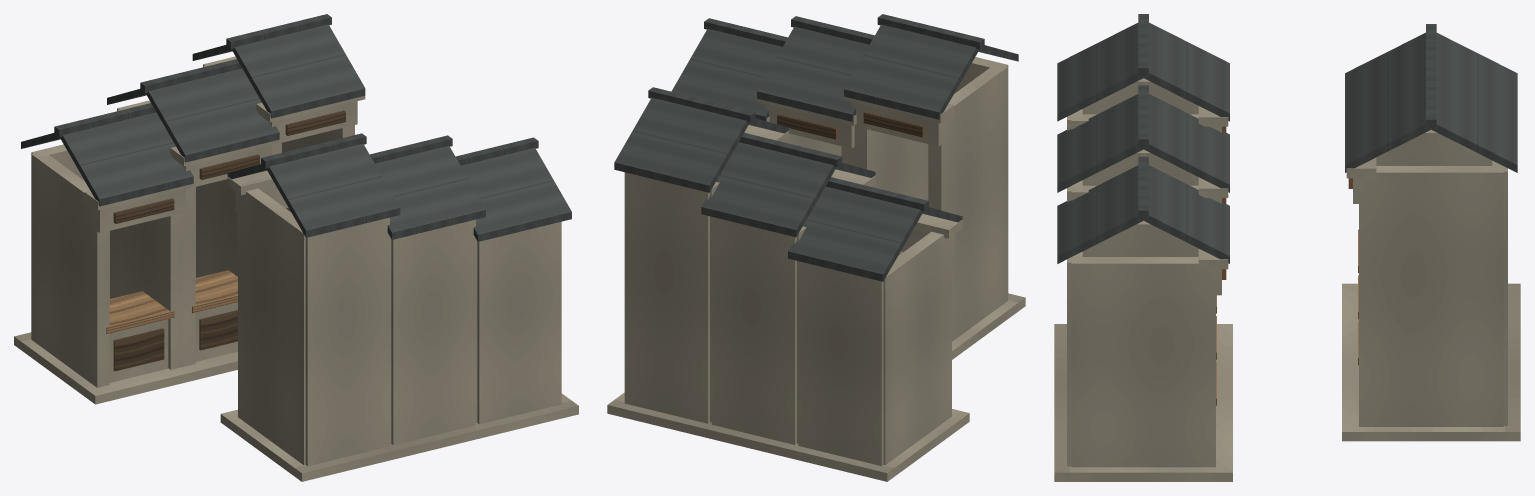
Rendered from addis-ababa.glb.
3 views of the same model, side by side, from view 1: azimuth 30°, elevation 25°; view 2: azimuth 150°, elevation 25°; view 3: azimuth 270°, elevation 25° (orthographic). The views are drawn at different scales.
Visible parts, largest first — view 1: addis-ababa; view 2: addis-ababa; view 3: addis-ababa.
Part boxes in pixels (x1=…): addis-ababa: x1=14, y1=14, x2=578, y2=481; addis-ababa: x1=607, y1=14, x2=1025, y2=481; addis-ababa: x1=1054, y1=14, x2=1520, y2=481.
Bounding box in the file's own units: 3.16 × 2.5 × 3.29.
1 material, 1 textured.
